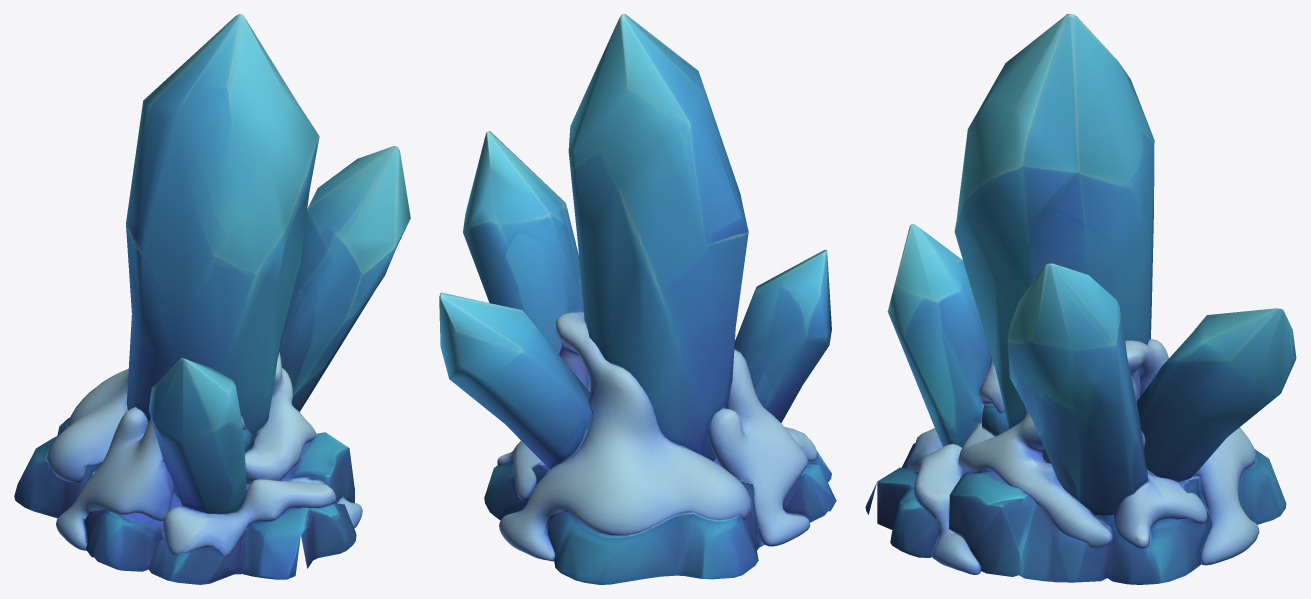
File: ice-crystal.glb
3 views of the same model, side by side, from view 1: azimuth 30°, elevation 25°; view 2: azimuth 150°, elevation 25°; view 3: azimuth 270°, elevation 25° (orthographic). The views are drawn at different scales.
Visible parts, largest first — view 1: tripo_7084f0ab_6847_47d4_8119_2e4070ffb63d; view 2: tripo_7084f0ab_6847_47d4_8119_2e4070ffb63d; view 3: tripo_7084f0ab_6847_47d4_8119_2e4070ffb63d.
Boxes of the visible parts, box(x1,y1,x2,y2) form: tripo_7084f0ab_6847_47d4_8119_2e4070ffb63d: box(14, 14, 410, 584); tripo_7084f0ab_6847_47d4_8119_2e4070ffb63d: box(439, 14, 836, 584); tripo_7084f0ab_6847_47d4_8119_2e4070ffb63d: box(865, 14, 1296, 584).
Bounding box in the file's own units: 0.7241 × 0.9995 × 0.7485.
1 material, 1 textured.
